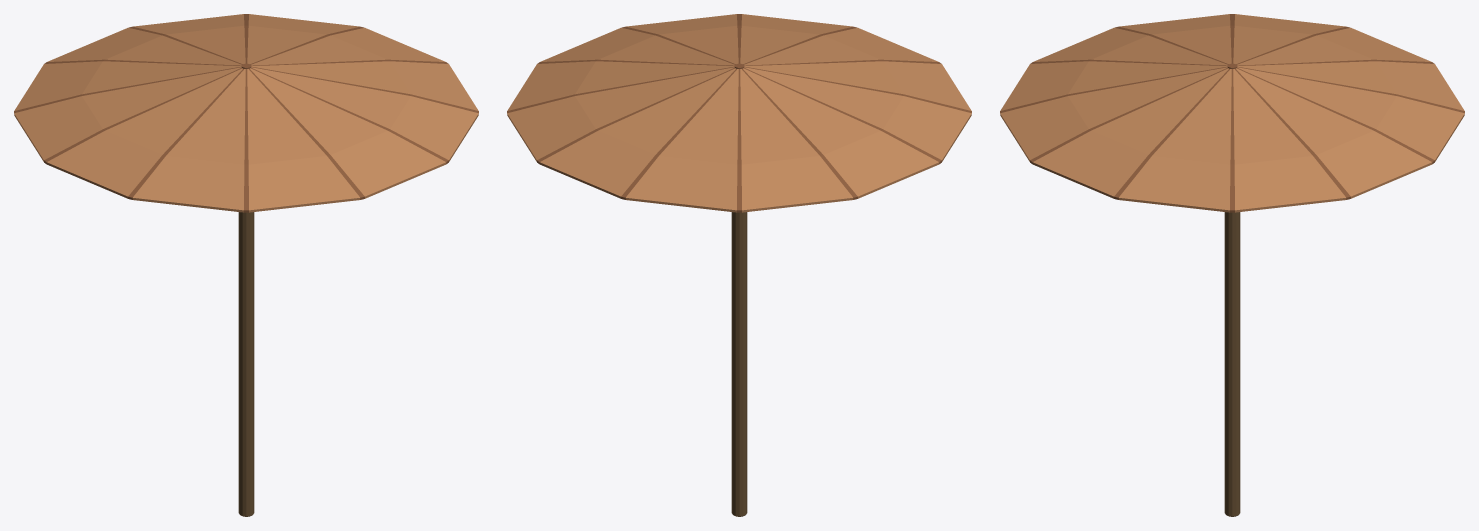
File: Umbrella_2.fbx
3 views of the same model, side by side, from view 1: azimuth 30°, elevation 25°; view 2: azimuth 150°, elevation 25°; view 3: azimuth 270°, elevation 25° (orthographic).
Parts seen in each view (by area): view 1: Umbrella_2; view 2: Umbrella_2; view 3: Umbrella_2.
Part boxes in pixels (x1,y1,x2,y2): Umbrella_2: (14,14,478,516); Umbrella_2: (507,14,971,516); Umbrella_2: (1000,14,1464,516).
Bounding box in the file's own units: 72.24 × 76.94 × 72.24.
